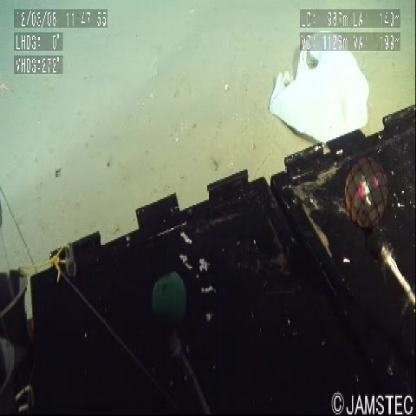Rov: (1, 1, 416, 416)
Rác: (256, 16, 378, 136)
